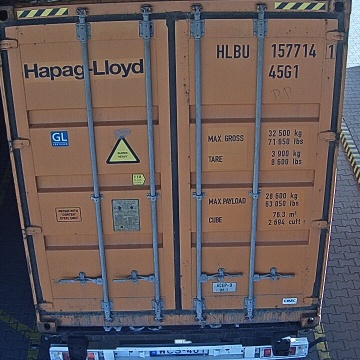serial_id: (217, 43, 335, 58)
